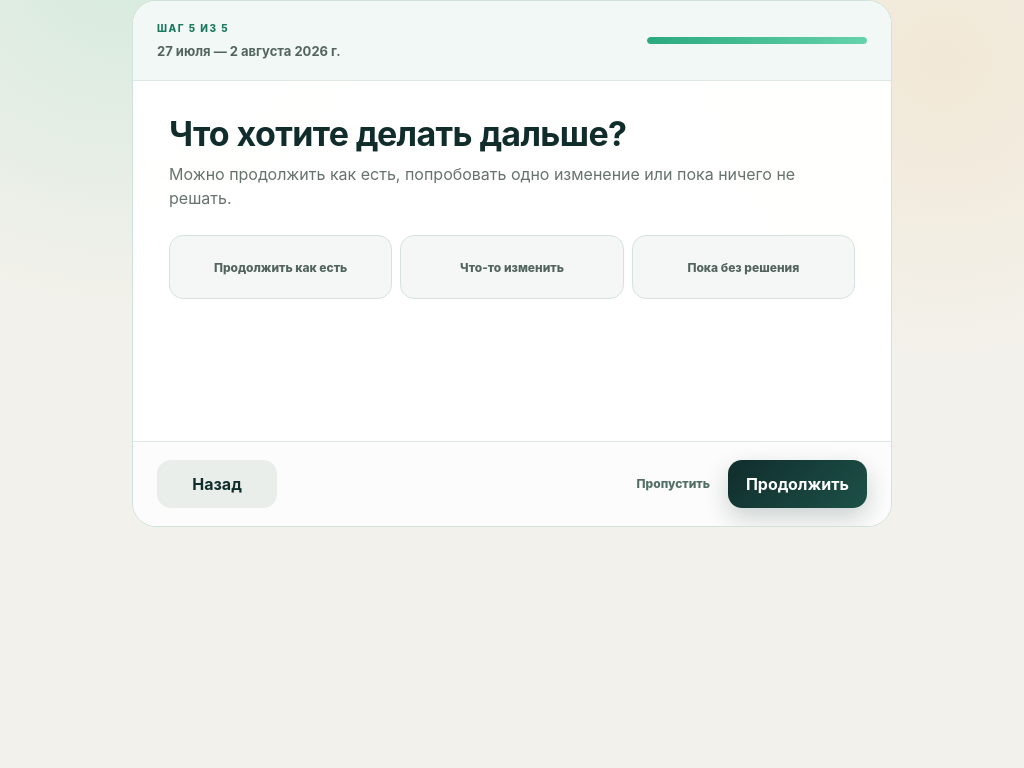
first-use week recovery › explains how the next-week change will be used later
Click the button "Что-то изменить".
click(512, 267)  # box [400,235,624,299]
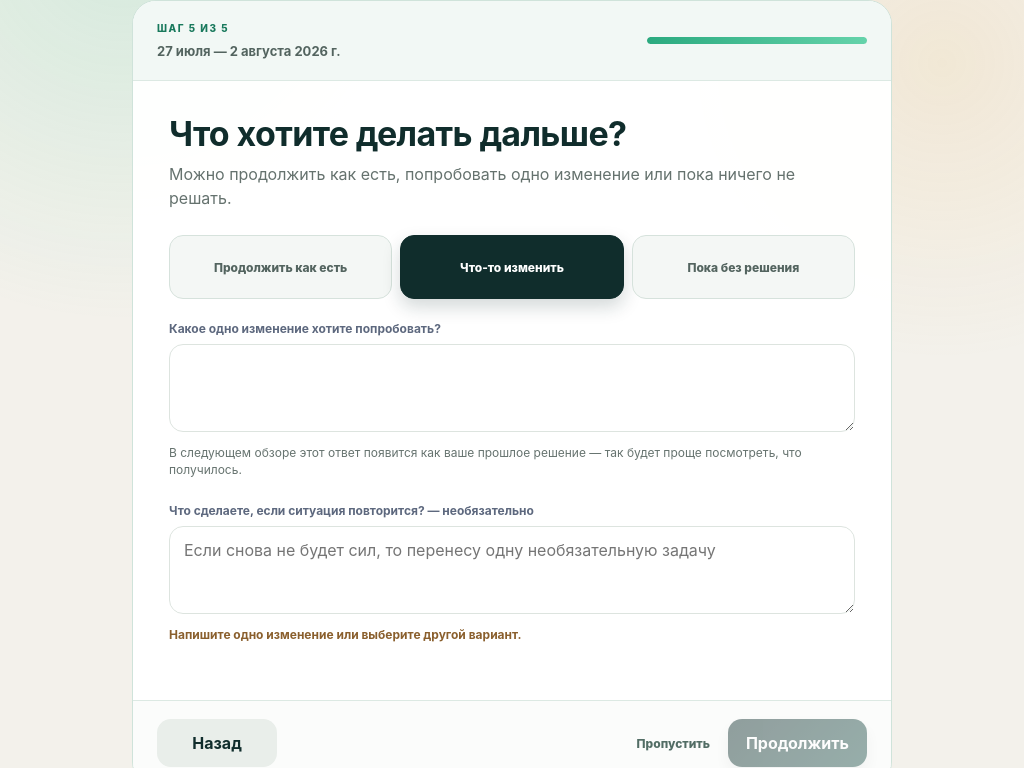
Check: the text "Какое одно изменение хотите попробовать?" is shown, box [169,321,441,336]
Check: the text "этот ответ появится как ваше прошлое решение" is shown, box [169,445,802,478]
